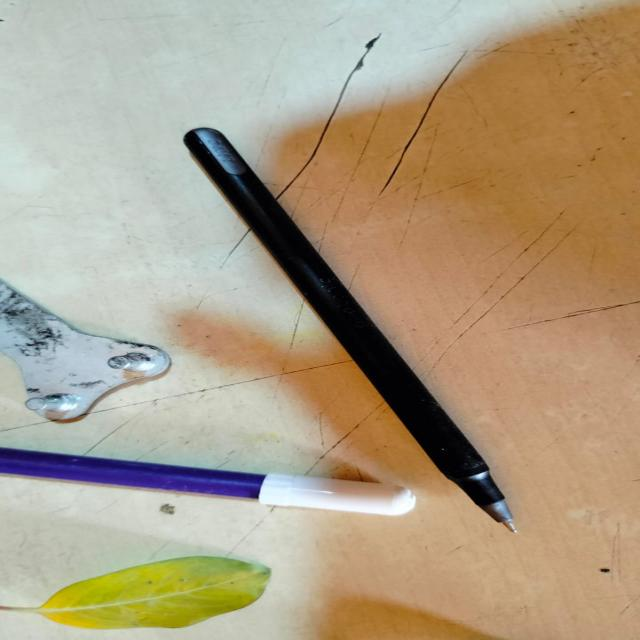Leaves: (34, 556, 272, 632)
Metal: (1, 276, 173, 425)
Pen: (185, 128, 518, 530), (0, 448, 416, 518)
